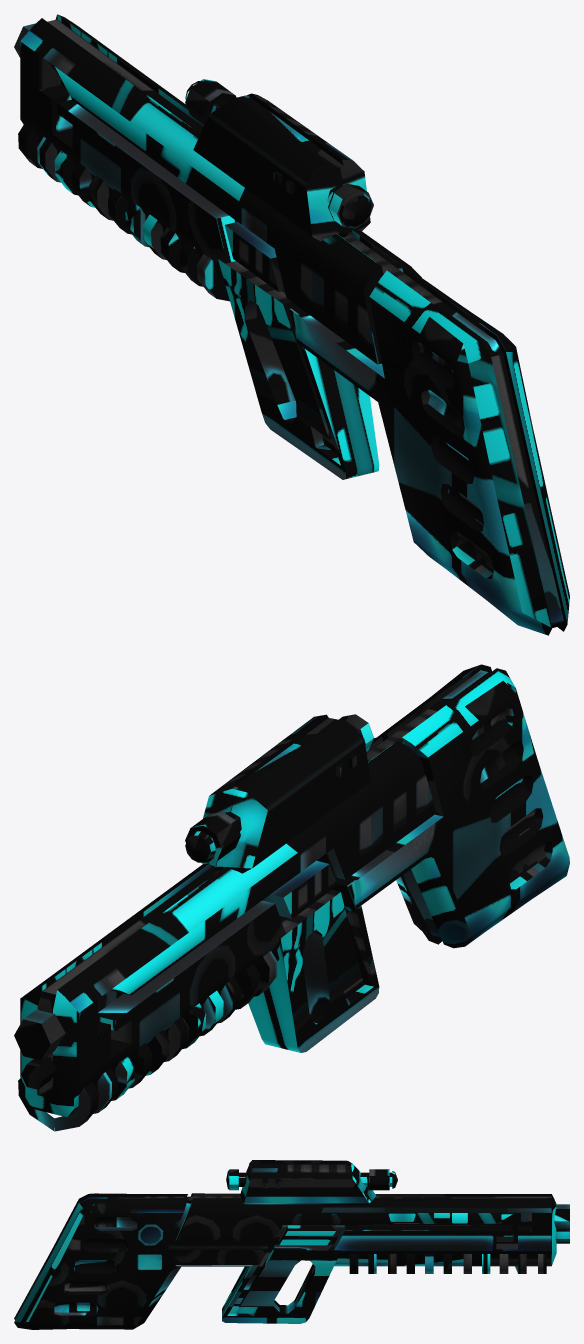
Rendered from sniper.gltf.
3 views of the same model, one above another, from view 1: azimuth 30°, elevation 25°; view 2: azimuth 150°, elevation 25°; view 3: azimuth 270°, elevation 25° (orthographic). The views are drawn at different scales.
Parts seen in each view (by area): view 1: sniper; view 2: sniper; view 3: sniper.
Part boxes in pixels (left/top/right/bottom): sniper: left=14, top=14, right=569, bottom=635; sniper: left=14, top=664, right=569, bottom=1131; sniper: left=14, top=1160, right=569, bottom=1329.
Size of the model in its own units: 0.0834 by 0.3412 by 1.05.
1 material, 1 textured.
